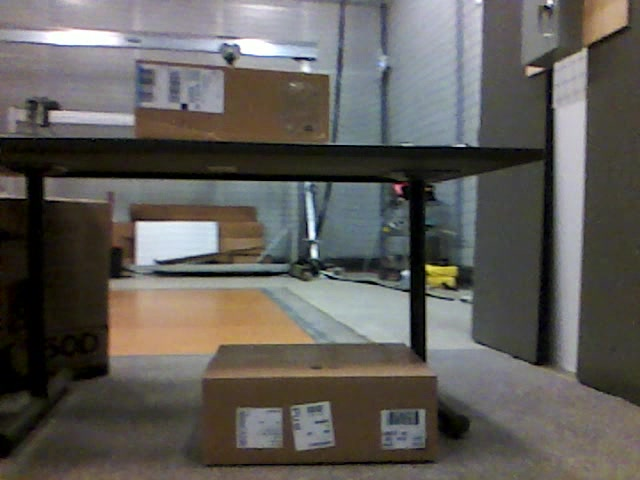box: (202, 345, 438, 460), (1, 196, 109, 383), (136, 61, 330, 143)
